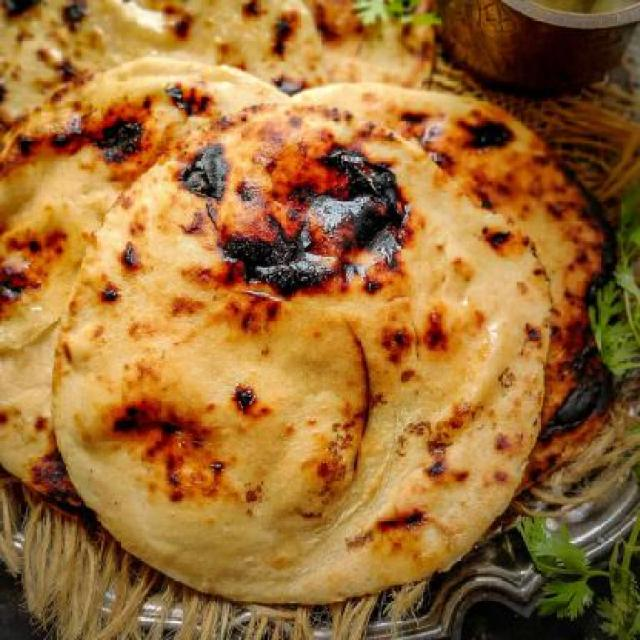chapati: (52, 88, 628, 603), (0, 59, 288, 541), (1, 0, 432, 123)
